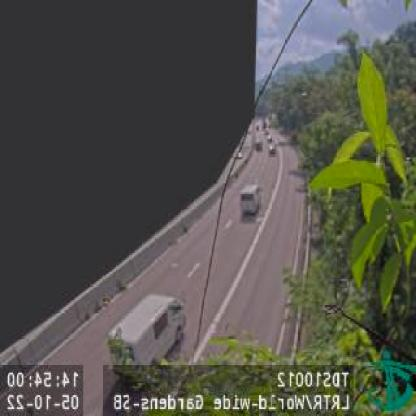Car: (111, 294, 187, 393), (240, 184, 262, 216)
